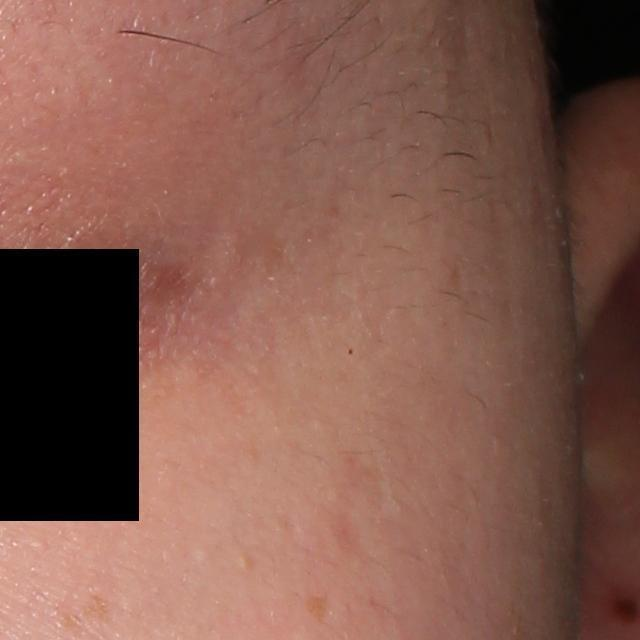melasma: (51, 595, 109, 633), (302, 593, 328, 625)
other: (236, 551, 255, 573)
